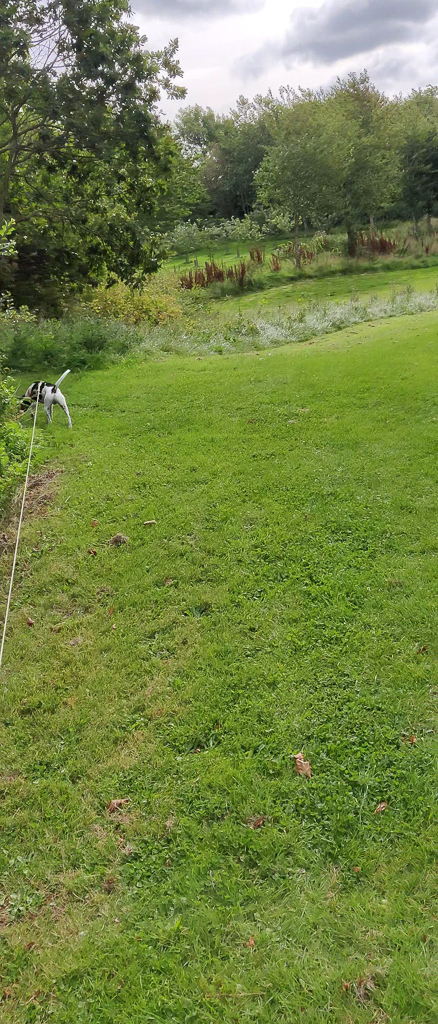Dog: (11, 366, 77, 432)
